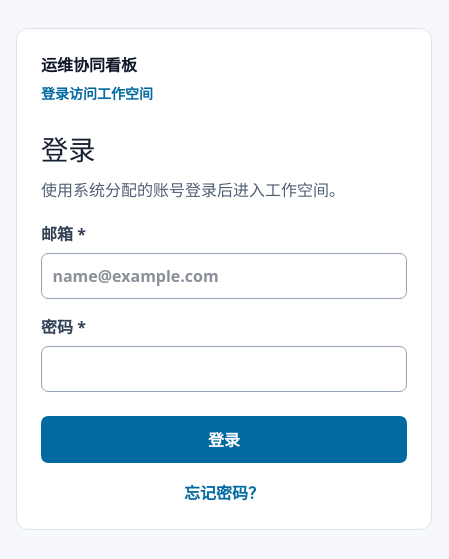
Test: 受保护路由 › 登录失败不显示原始 Supabase 信息
The width and height of the screenshot is (449, 559).
Type "a@example.com" into the field labelled "邮箱 *" at (224, 276), box 41,252 -> 407,299
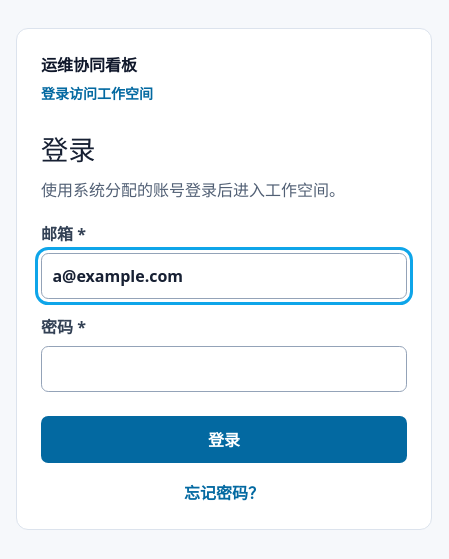
Type "wrong" into the password field labelled "密码 *" at (224, 369), box 41,346 -> 407,392
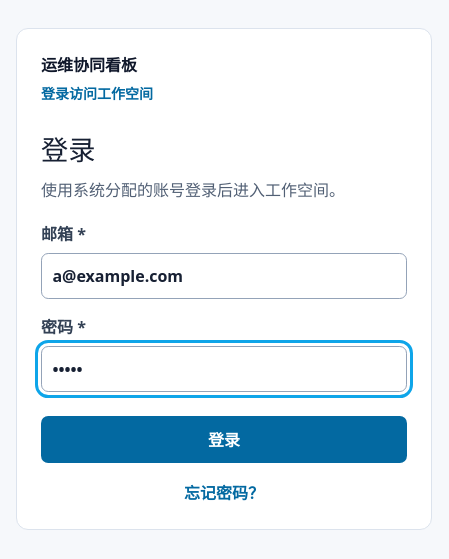
Click the button "登录" at (224, 440), box 41,416 -> 407,463
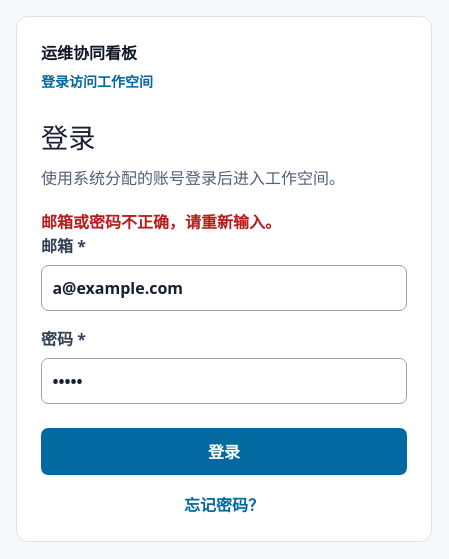
Expected: the text "邮箱或密码不正确，请重新输入。" is shown, 41,211 -> 281,233
